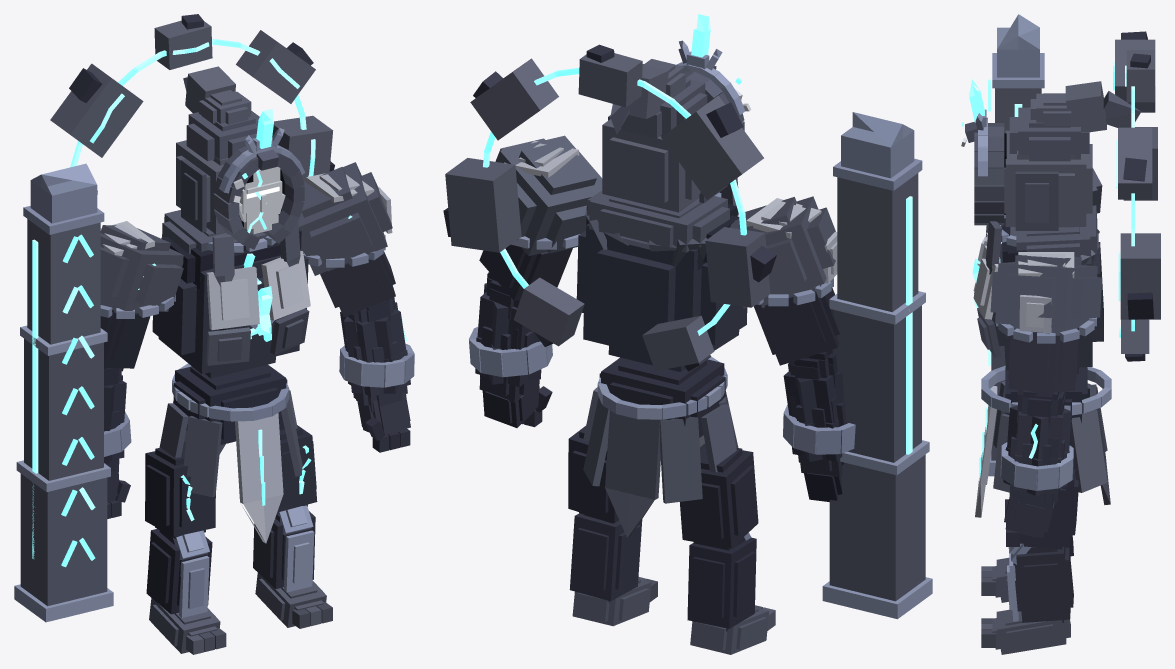
3 views of the same model, side by side, from view 1: azimuth 30°, elevation 25°; view 2: azimuth 150°, elevation 25°; view 3: azimuth 270°, elevation 25° (orthographic). The views are drawn at different scales.
Visible parts, largest first — view 1: RiftColossus; view 2: RiftColossus; view 3: RiftColossus.
Boxes of the visible parts, x1,y1,x2,y2 form: RiftColossus: (14,14,414,654); RiftColossus: (443,14,932,654); RiftColossus: (961,14,1160,654).
Size of the model in its own units: 1.35 by 1.88 by 0.5994.
